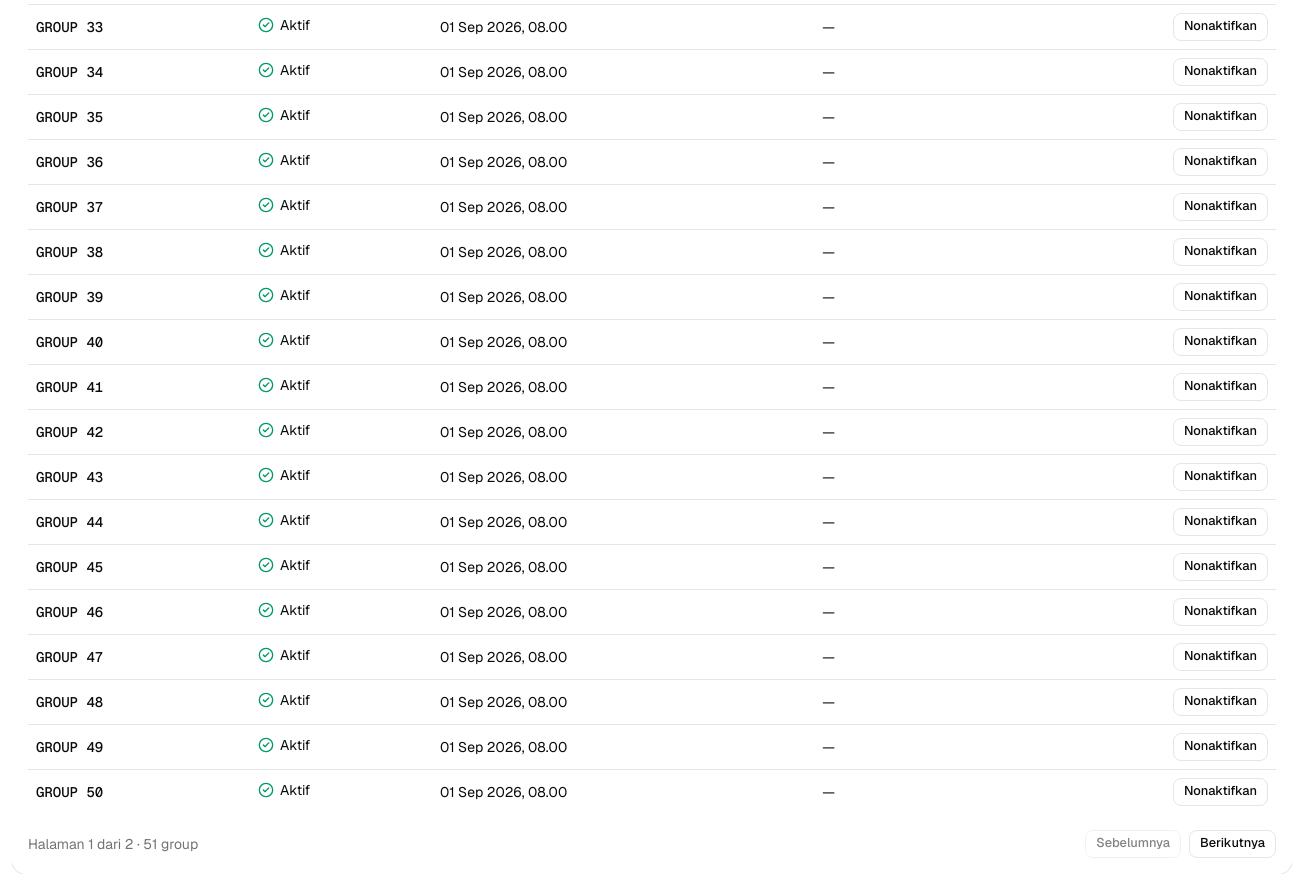
Scenario: ProductGroupsView — daftar (10.5, 10.8) › dipaginasi di klien; saran tetap memakai seluruh daftar
This screenshot has width=1292, height=874.
(page scrolled)
Expected: the text "GROUP 51" is not shown
Expected: the text "Halaman 1 dari 2 · 51 group" is shown, x1=28 y1=834 x2=198 y2=854
Click the button "Berikutnya" at (1233, 844), box x1=1189 y1=830 x2=1276 y2=858
(page scrolled)
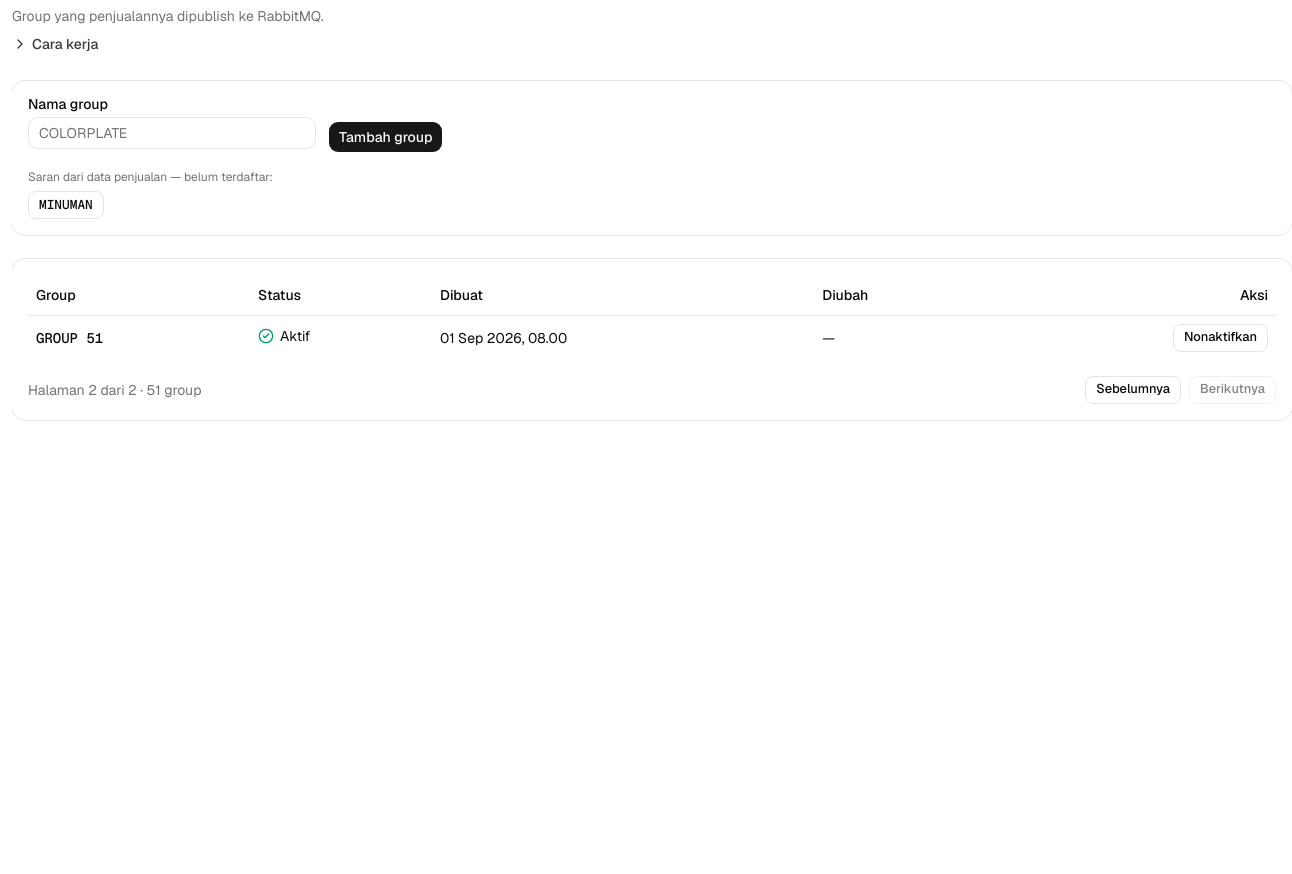
Now the text "GROUP 51" is shown, box x1=28 y1=315 x2=250 y2=360
Now the button "Berikutnya" is disabled, box x1=1189 y1=376 x2=1276 y2=404
